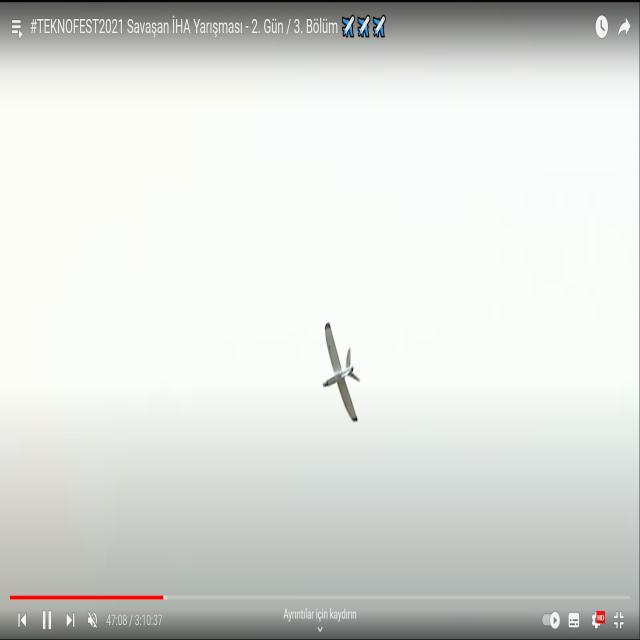iha: (322, 354, 361, 392)
